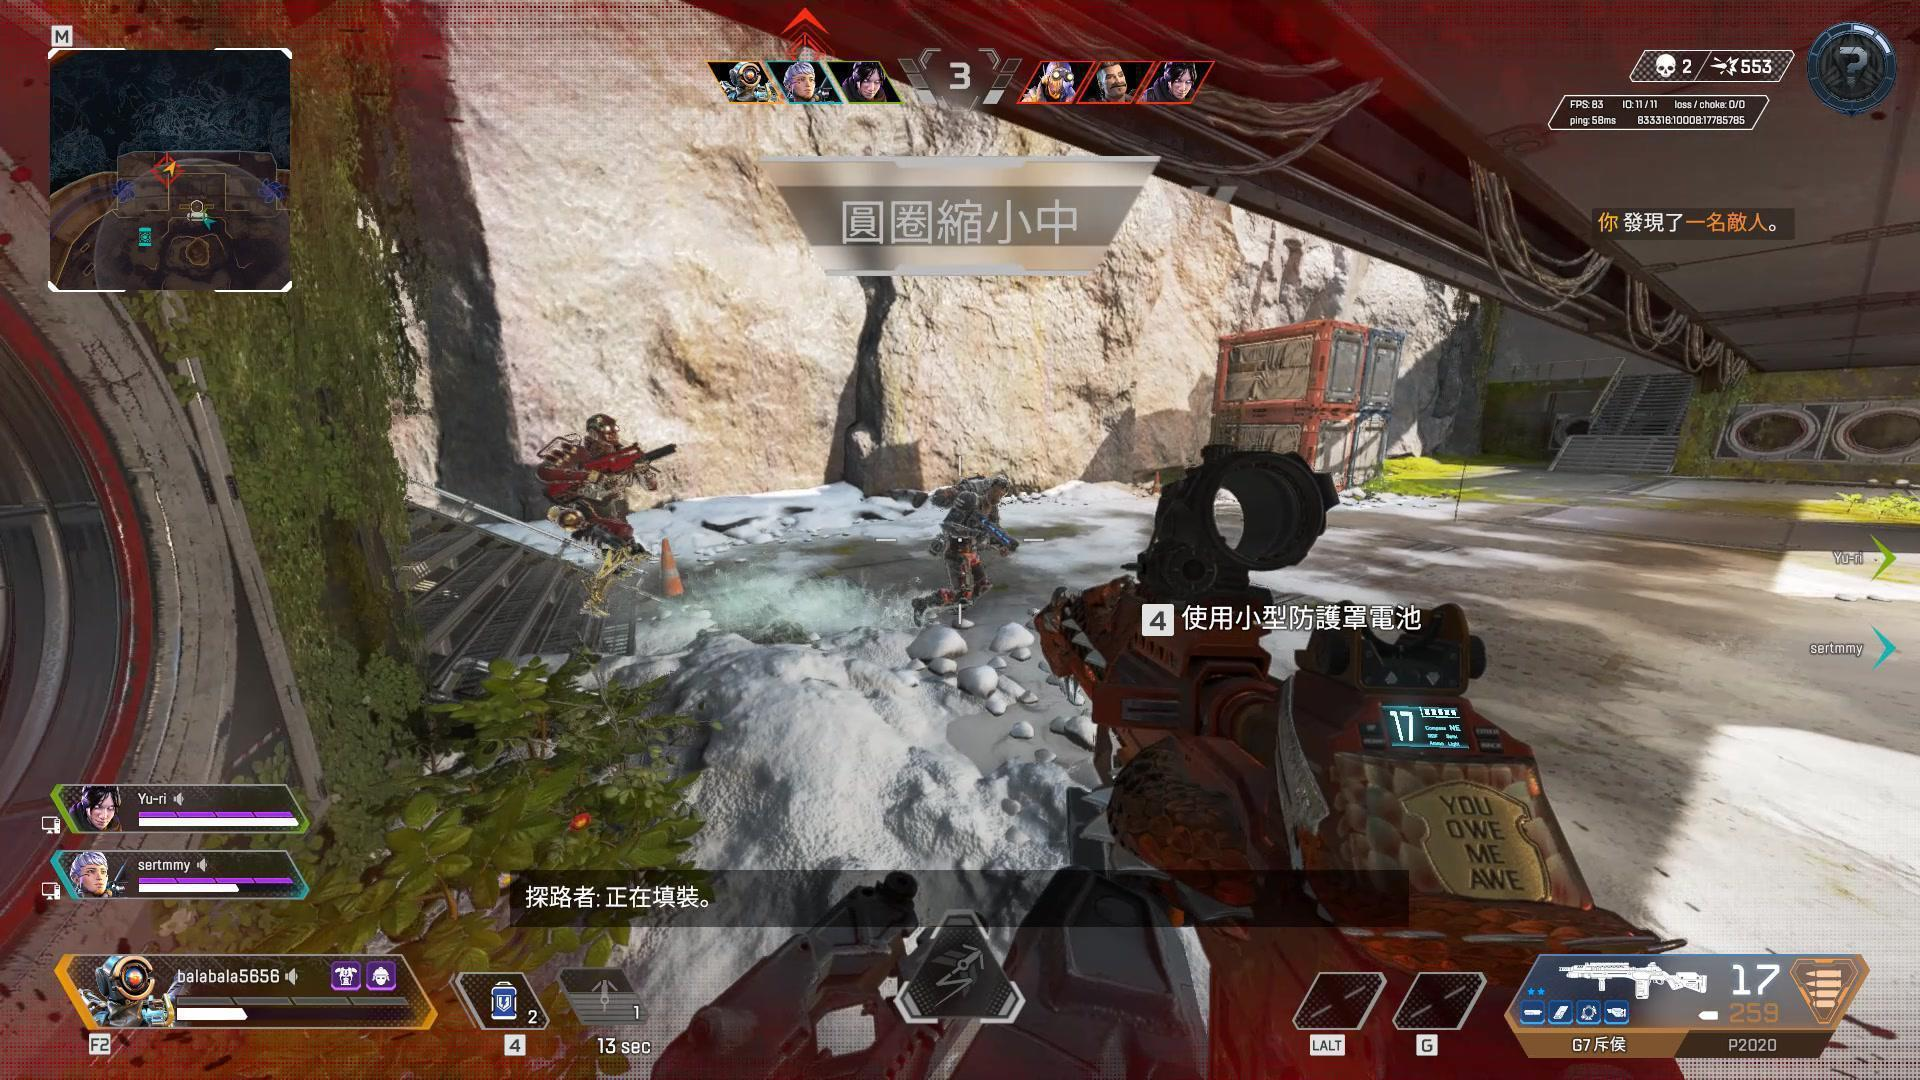avatar: (535, 411, 655, 625), (924, 472, 1014, 635)
